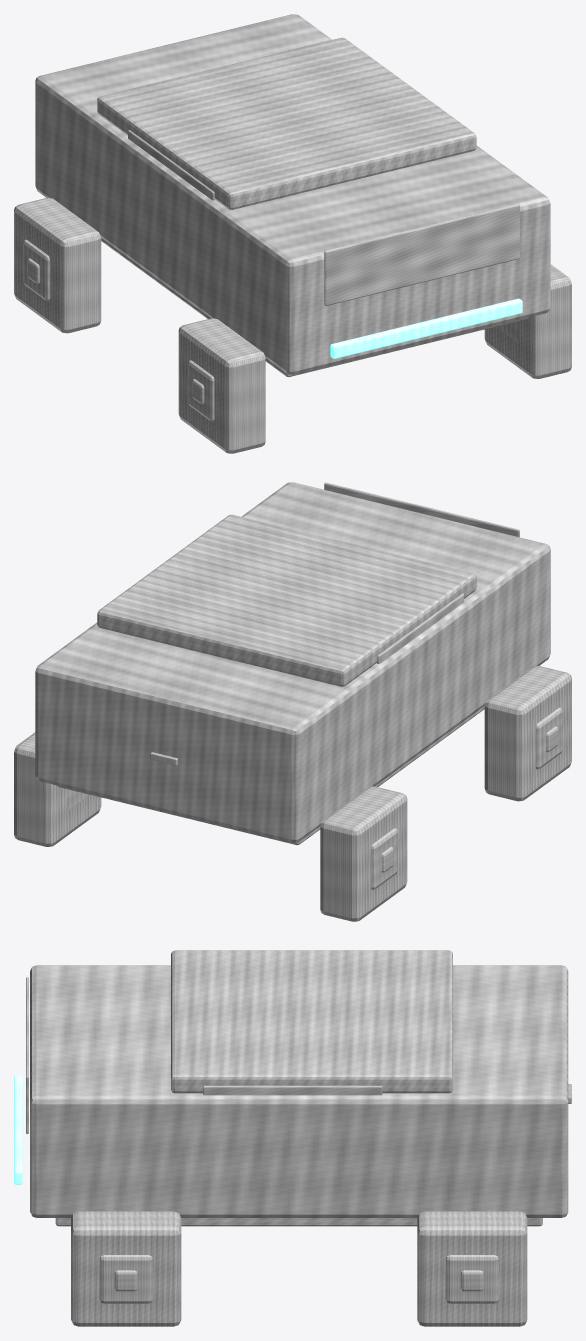
The model's file is cyber_wagon_variant_b.glb.
The picture shows the model from 3 angles, top to bottom: view 1: azimuth 30°, elevation 25°; view 2: azimuth 150°, elevation 25°; view 3: azimuth 270°, elevation 25°; orthographic projection. The views are drawn at different scales.
Visible parts, largest first — view 1: Flat armored body, Roof slab, Wide front glass, Square wheel.004, Square wheel.005, Square wheel.006, Front light bar.001, Square wheel hub.005, Square wheel hub.004, Lower chassis skid plate.001, Side window; view 2: Flat armored body, Roof slab, Square wheel.005, Square wheel.004, Square wheel.007, Wide front glass, Square wheel hub.004, Square wheel hub.005, Lower chassis skid plate.001, Side window; view 3: Flat armored body, Roof slab, Square wheel.006, Square wheel.007, Lower chassis skid plate.001, Square wheel hub.006, Square wheel hub.007, Side window.001, Front light bar.001, Hub center.007, Hub center.006.
Boxes of the visible parts, left/top/right/bottom form: Flat armored body: left=35, top=14, right=550, bottom=374; Roof slab: left=97, top=37, right=476, bottom=209; Wide front glass: left=324, top=203, right=519, bottom=305; Square wheel.004: left=178, top=318, right=265, bottom=453; Square wheel.005: left=14, top=198, right=101, bottom=333; Square wheel.006: left=484, top=264, right=571, bottom=378; Front light bar.001: left=330, top=298, right=522, bottom=358; Square wheel hub.005: left=23, top=239, right=50, bottom=301; Square wheel hub.004: left=188, top=360, right=214, bottom=421; Lower chassis skid plate.001: left=101, top=238, right=528, bottom=377; Side window: left=128, top=130, right=214, bottom=200; Flat armored body: left=35, top=482, right=550, bottom=842; Roof slab: left=97, top=514, right=476, bottom=686; Square wheel.005: left=320, top=786, right=407, bottom=921; Square wheel.004: left=484, top=666, right=571, bottom=801; Square wheel.007: left=14, top=732, right=101, bottom=846; Wide front glass: left=324, top=482, right=519, bottom=537; Square wheel hub.004: left=535, top=707, right=562, bottom=769; Square wheel hub.005: left=371, top=828, right=397, bottom=889; Lower chassis skid plate.001: left=57, top=706, right=484, bottom=845; Side window: left=377, top=593, right=463, bottom=663; Flat armored body: left=30, top=965, right=568, bottom=1217; Roof slab: left=171, top=950, right=452, bottom=1093; Square wheel.006: left=71, top=1211, right=181, bottom=1326; Square wheel.007: left=417, top=1211, right=527, bottom=1326; Lower chassis skid plate.001: left=55, top=1218, right=542, bottom=1226; Square wheel hub.006: left=99, top=1255, right=152, bottom=1303; Square wheel hub.007: left=445, top=1255, right=498, bottom=1303; Side window.001: left=203, top=1085, right=382, bottom=1095; Front light bar.001: left=14, top=1075, right=22, bottom=1184; Hub center.007: left=460, top=1270, right=483, bottom=1291; Hub center.006: left=114, top=1270, right=137, bottom=1291.
Size of what is drawn, in the model's own units: 3.39 by 1.96 by 4.35.
7 materials, 7 textured.
